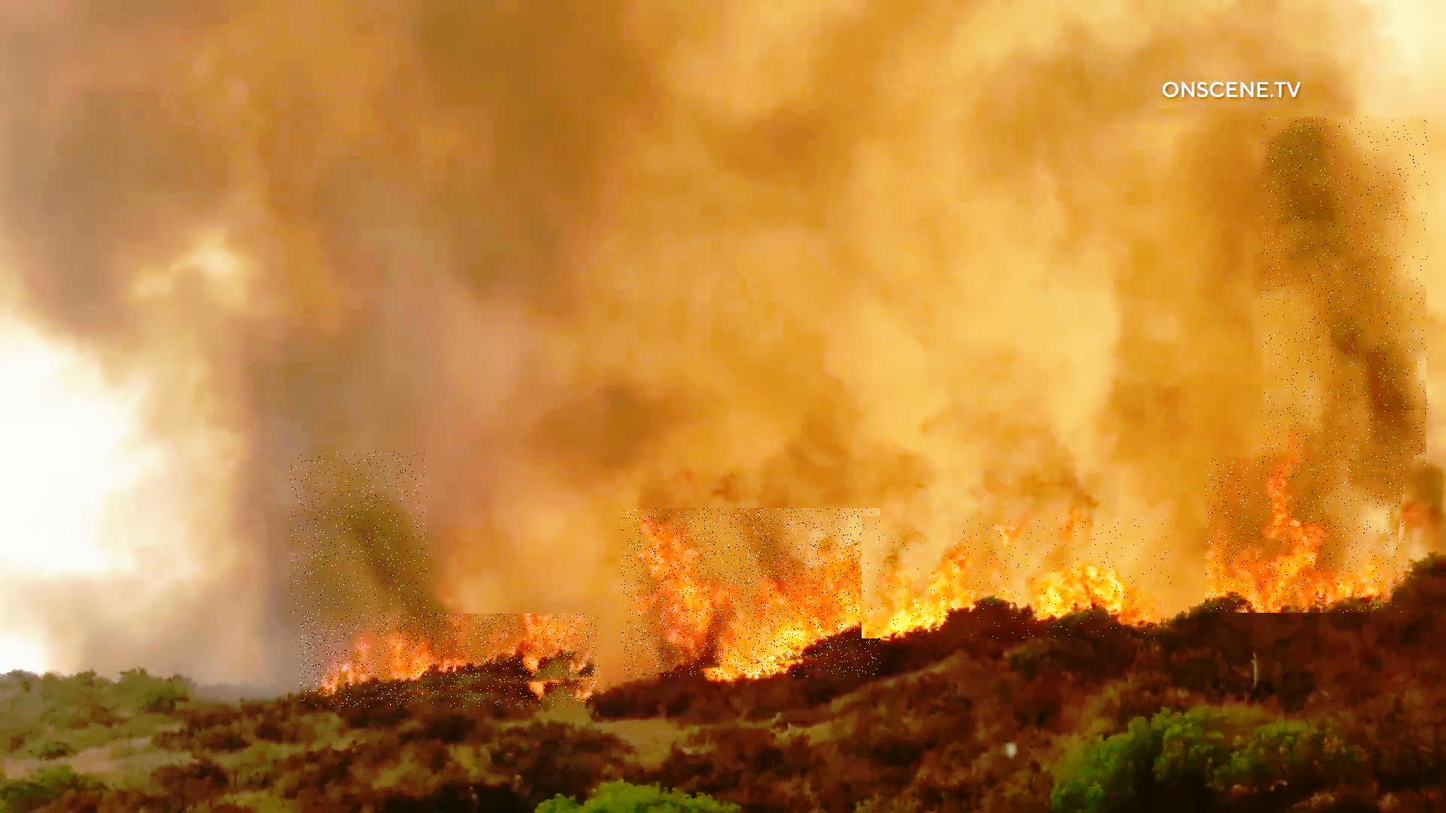fire: (622, 509, 881, 677), (862, 518, 1172, 638), (1205, 458, 1405, 613), (300, 614, 600, 708)
smoke: (1262, 117, 1428, 467), (291, 452, 428, 616)
